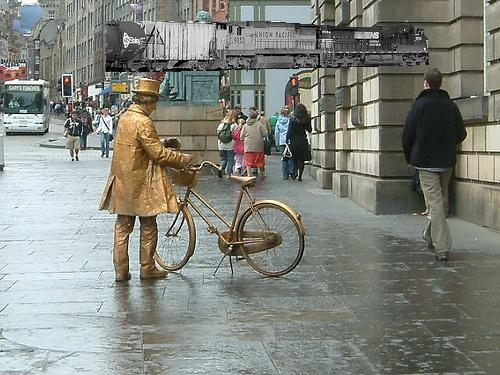tampered: (107, 22, 429, 72)
